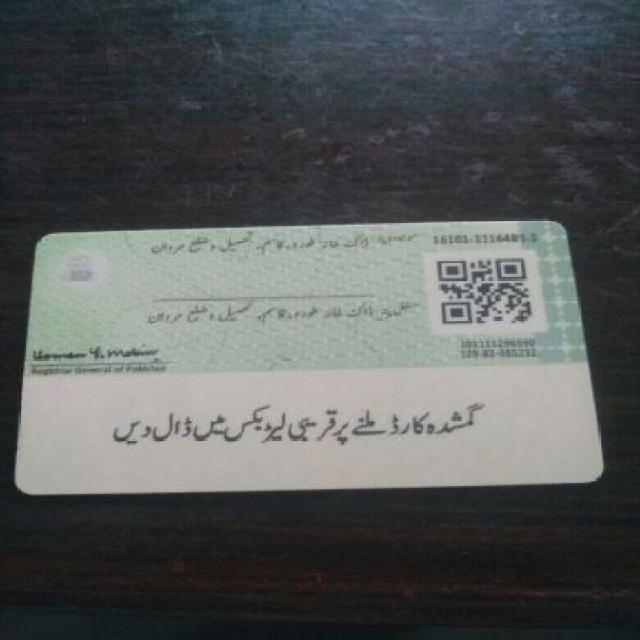Back: (8, 217, 606, 491)
